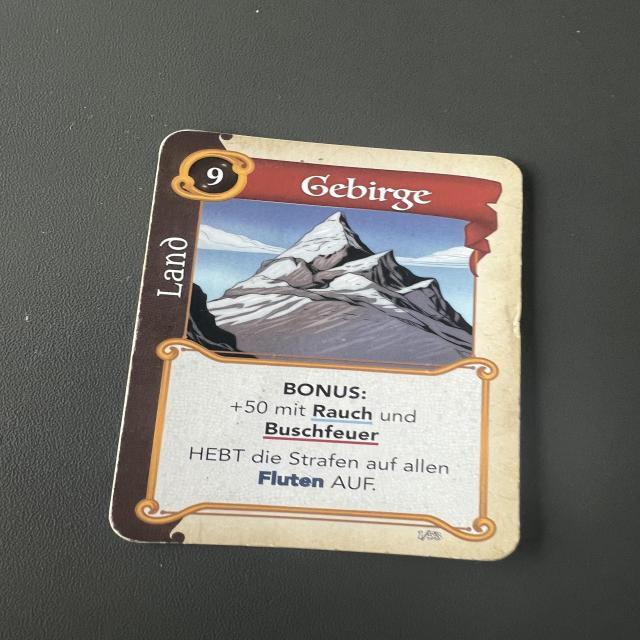Mountain: (113, 119, 521, 565)
